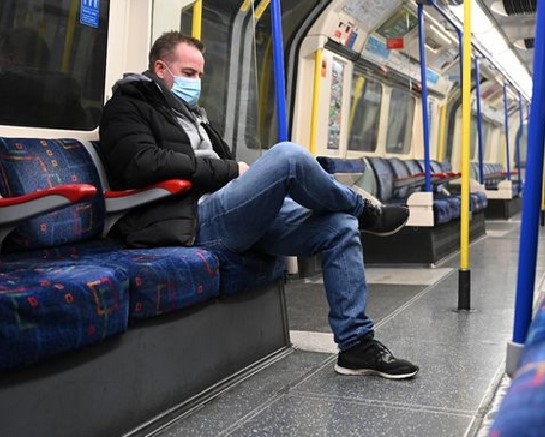face_with_mask: (148, 32, 208, 106)
